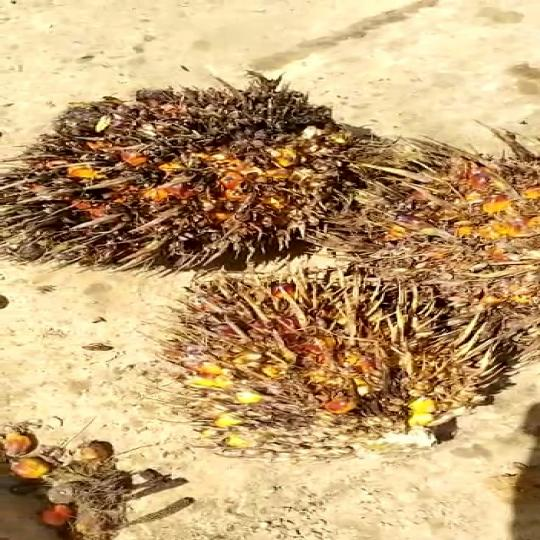terlalu masak: (0, 71, 387, 281), (159, 269, 514, 459)
